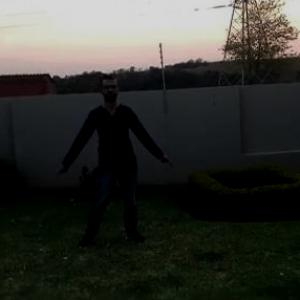land: (46, 64, 169, 270)
